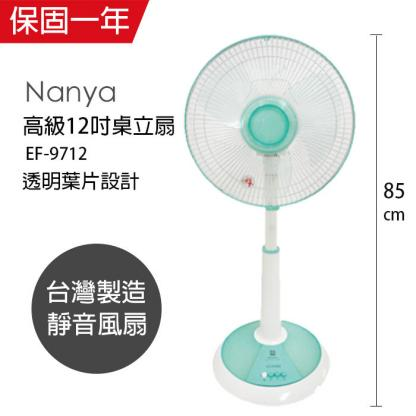fan: (181, 32, 363, 406)
